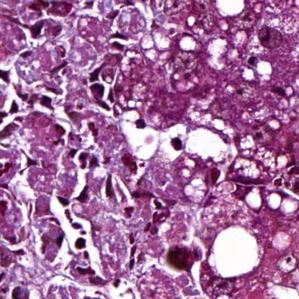ballooning: (206, 223, 263, 280)
